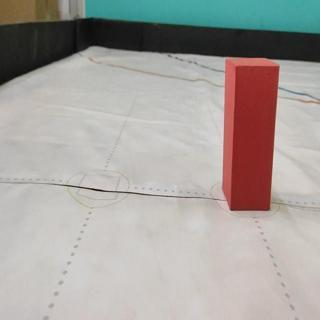redbox: (223, 55, 279, 210)
